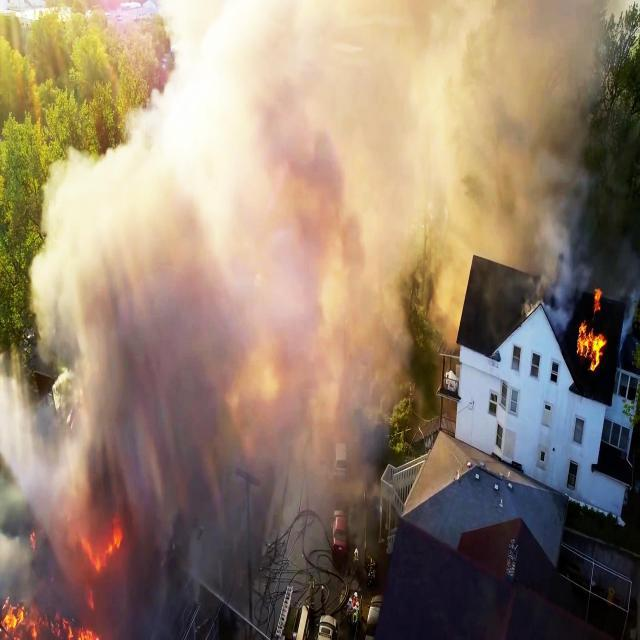Fire: (0, 524, 128, 640), (574, 283, 608, 375)
Smoke: (28, 7, 640, 277), (0, 254, 472, 518)
